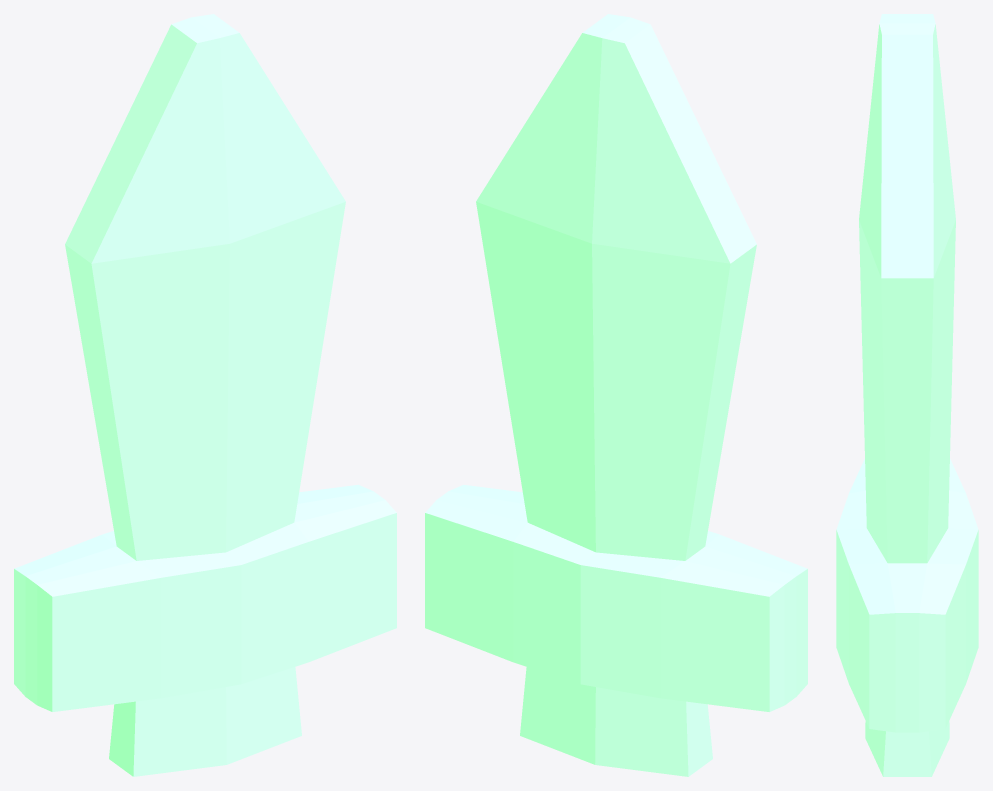
File: AttackEffects_sword.fbx
The picture shows the model from 3 angles, left to right: view 1: azimuth 30°, elevation 25°; view 2: azimuth 150°, elevation 25°; view 3: azimuth 270°, elevation 25°; orthographic projection.
Parts seen in each view (by area): view 1: Plane; view 2: Plane; view 3: Plane.
Boxes of the visible parts, bbox=[...] form: Plane: bbox=[14, 14, 396, 776]; Plane: bbox=[425, 14, 807, 776]; Plane: bbox=[836, 14, 978, 776].
Size of the model in its own units: 82.96 by 164 by 29.59.
